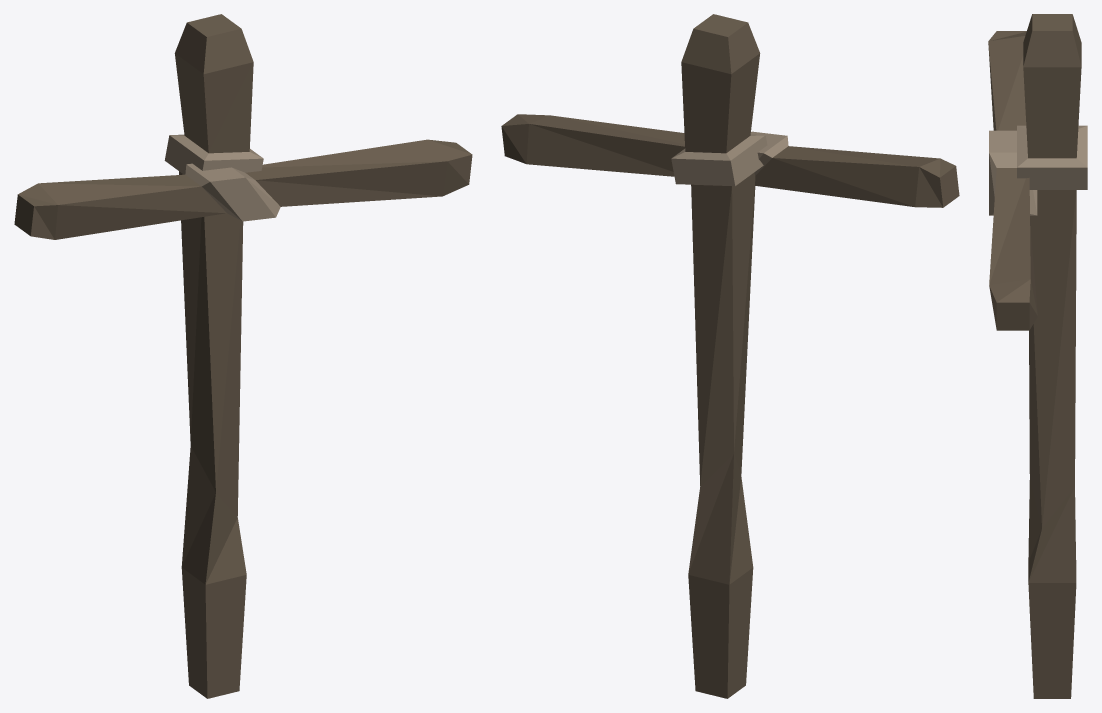
File: SM_Prop_Grave_01.glb
The picture shows the model from 3 angles, left to right: view 1: azimuth 30°, elevation 25°; view 2: azimuth 150°, elevation 25°; view 3: azimuth 270°, elevation 25°; orthographic projection.
Visible parts, largest first — view 1: SM_Prop_Grave_01_part00; view 2: SM_Prop_Grave_01_part00; view 3: SM_Prop_Grave_01_part00.
Boxes of the visible parts, x1=… form: SM_Prop_Grave_01_part00: x1=14, y1=14, x2=472, y2=698; SM_Prop_Grave_01_part00: x1=501, y1=14, x2=959, y2=698; SM_Prop_Grave_01_part00: x1=988, y1=14, x2=1087, y2=698.
Size of the model in its own units: 0.7466 by 1.07 by 0.1443.
1 material, 1 textured.
